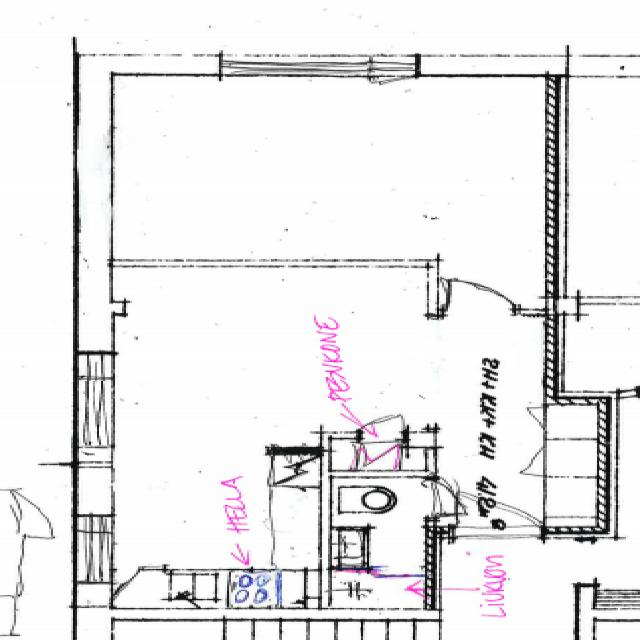door: (454, 472, 537, 540), (445, 266, 512, 316), (423, 479, 498, 519), (361, 403, 402, 439)
